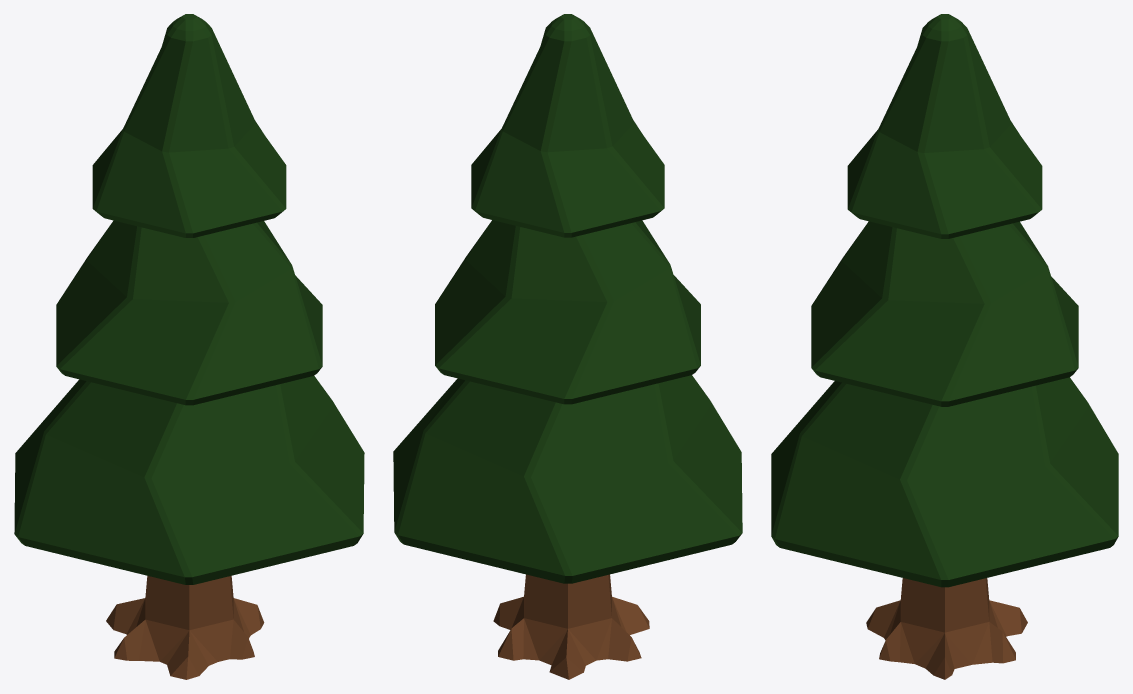
Rendered from Tree_Spruce.fbx.
3 renders of one model, left to right at view 1: azimuth 30°, elevation 25°; view 2: azimuth 150°, elevation 25°; view 3: azimuth 270°, elevation 25°, orthographic.
Visible parts, largest first — view 1: Tree_Spruce; view 2: Tree_Spruce; view 3: Tree_Spruce.
Boxes of the visible parts, left/top/right/bottom form: Tree_Spruce: left=14, top=14, right=364, bottom=679; Tree_Spruce: left=393, top=14, right=742, bottom=679; Tree_Spruce: left=771, top=14, right=1118, bottom=679.
Size of the model in its own units: 228 by 393 by 197.
